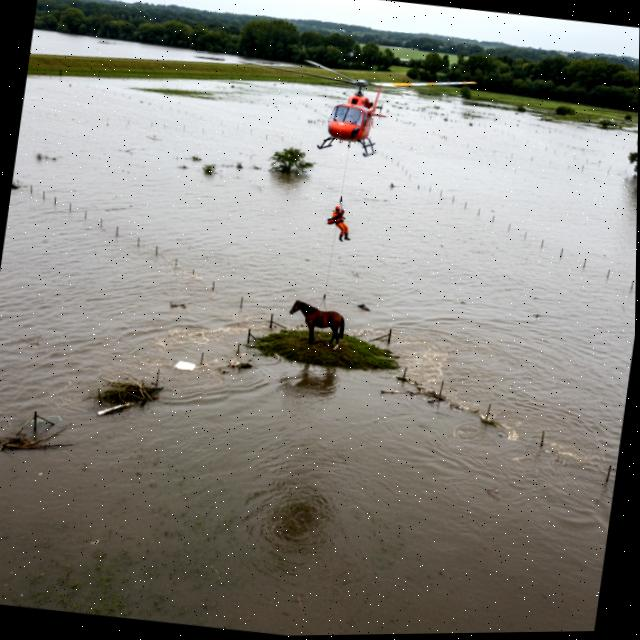horse: (275, 287, 360, 357)
rescuer: (317, 196, 359, 251)
